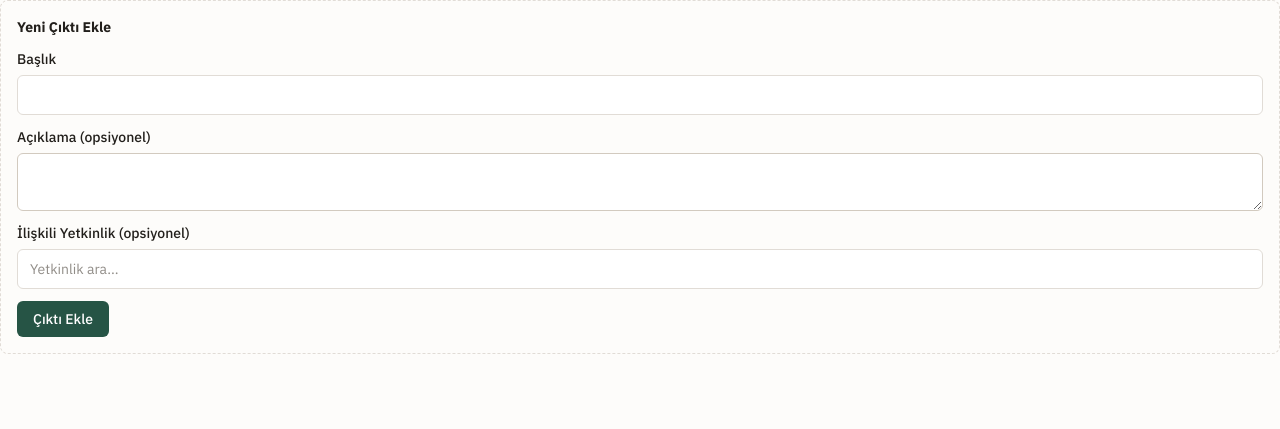
Test: DeliverableForm › 403 FORBIDDEN → yetki hatası mesajı gösterilir
Step 1. Type "x" into the field labelled "Başlık" → x=640, y=95, box [17, 75, 1263, 115]
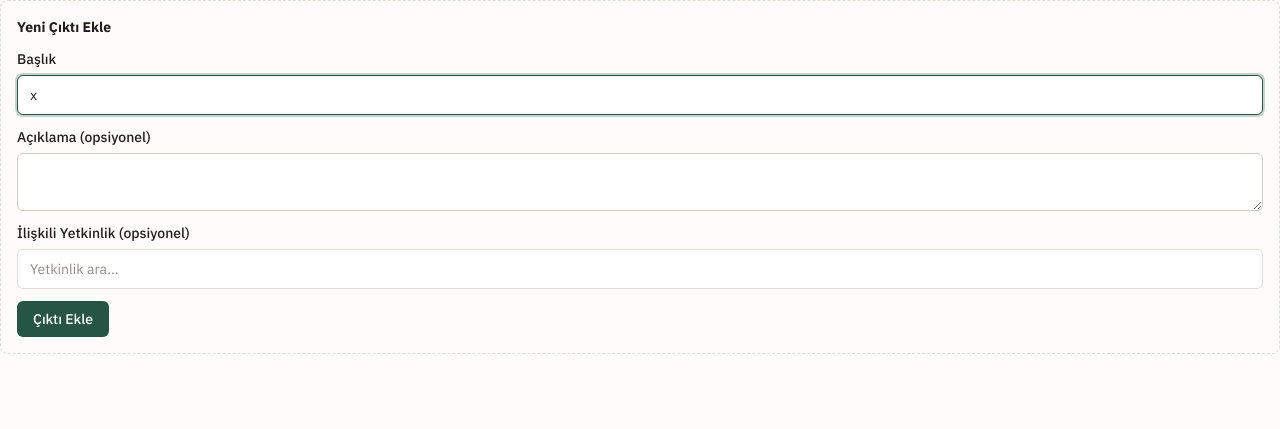
Step 2. Click the button "Çıktı Ekle" → x=63, y=319, box [17, 301, 109, 337]
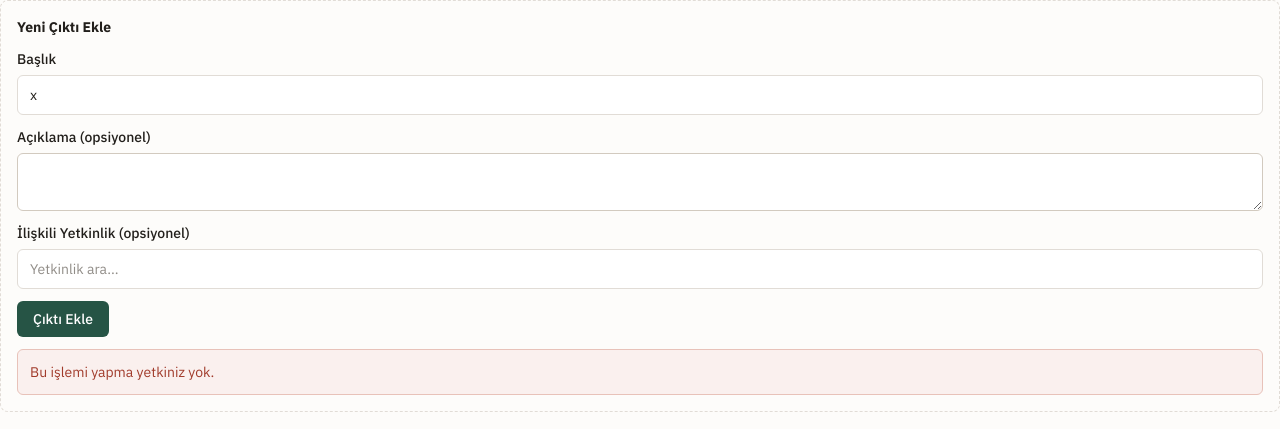
Now the text "Bu işlemi yapma yetkiniz yok." is shown, box [17, 349, 1263, 395]
